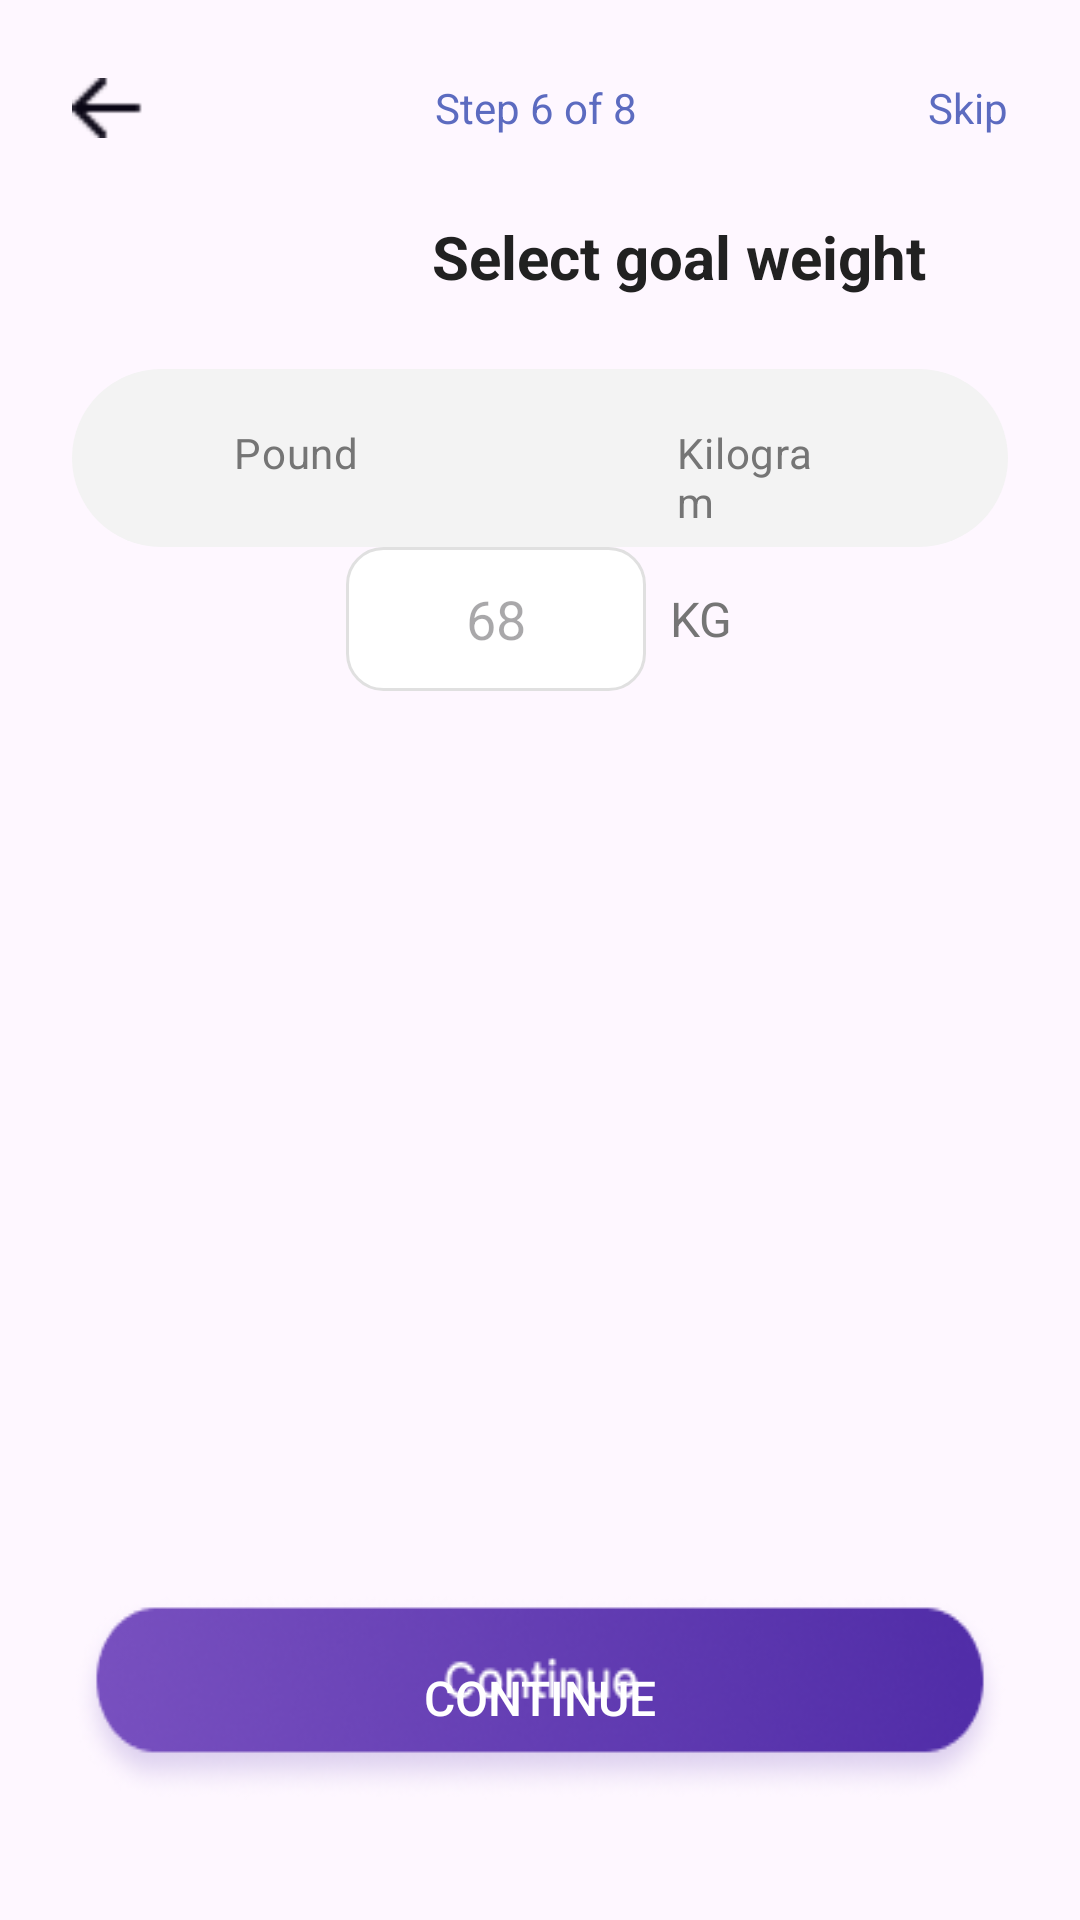

Where icons sit on this 1080*1920 app screen, as {"left": x1, "top": y1, "right": x2, "bottom": y2}:
Back: {"left": 72, "top": 78, "right": 142, "bottom": 138}
